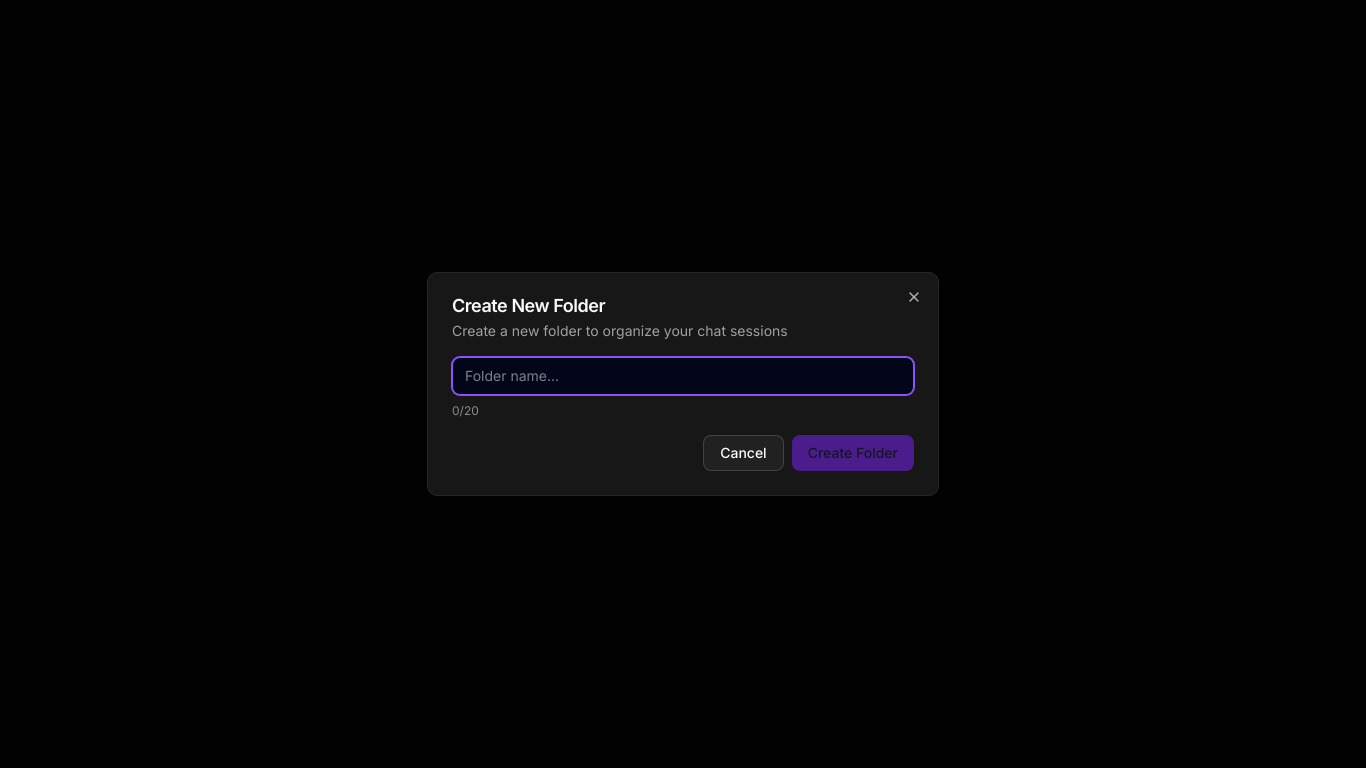
it: CreateFolderDialog Component › Button States › should enable Create Folder button when input has text
This screenshot has width=1366, height=768.
Type "New Folder" into the field with placeholder "Folder name..." at (683, 376), box [452,357,914,395]
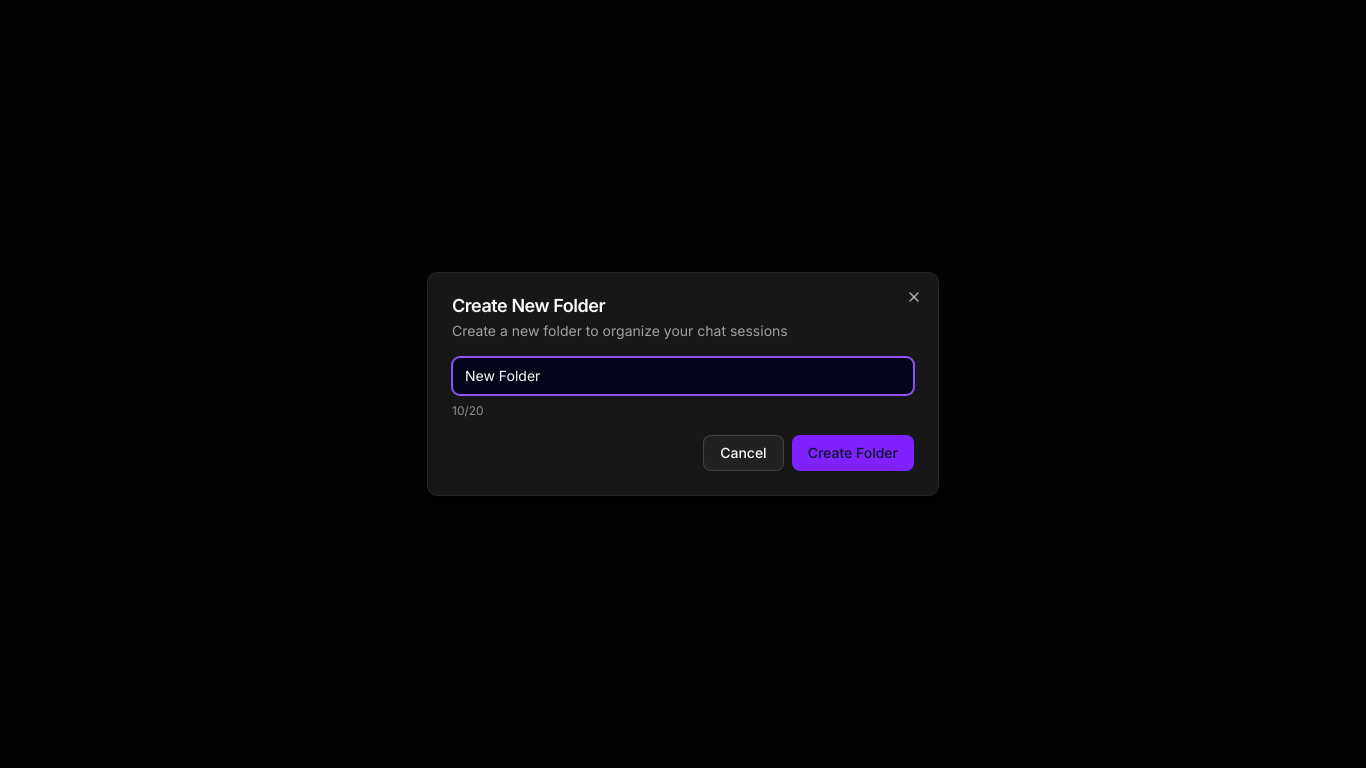
Expected: the button "Create Folder" is enabled, [792,435,914,471]
